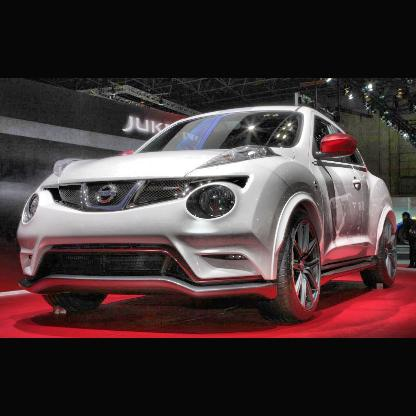Nissan Juke Hatchback 2012: (16, 105, 403, 321)
